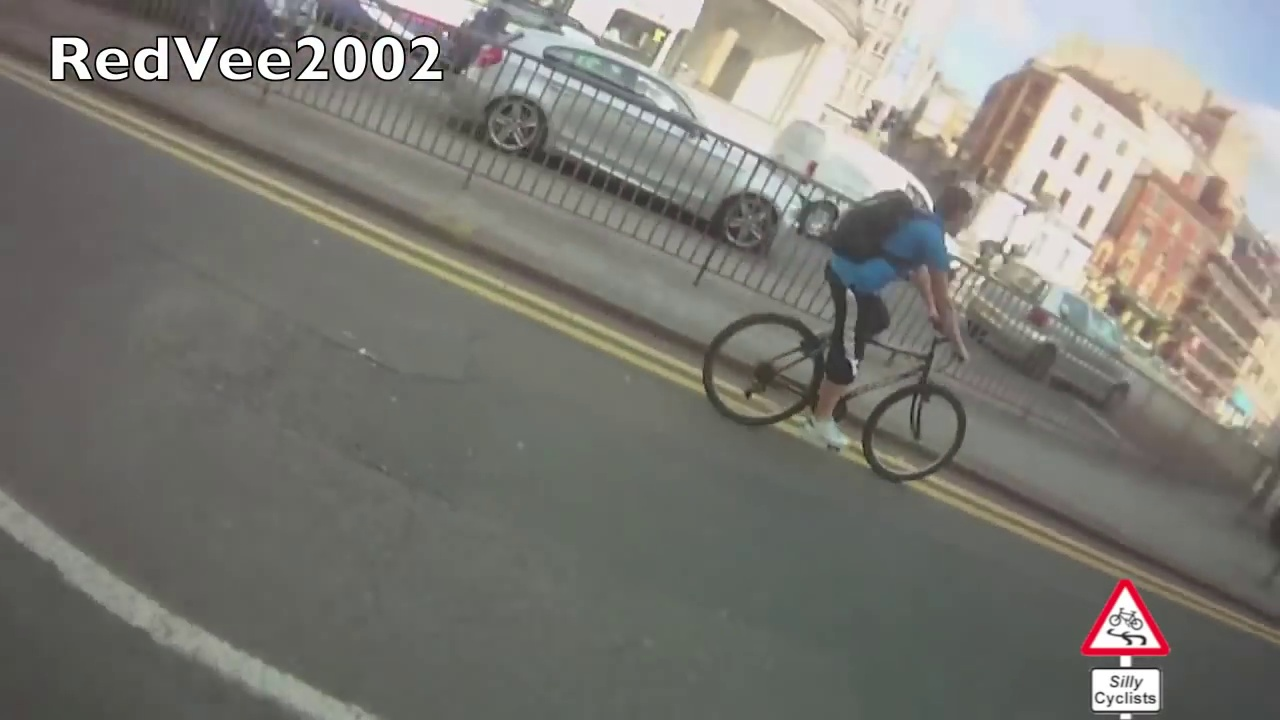cyclist_side: (701, 157, 982, 484)
